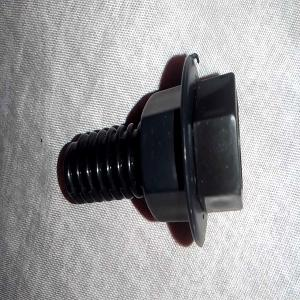parafuso: (56, 52, 242, 246)
